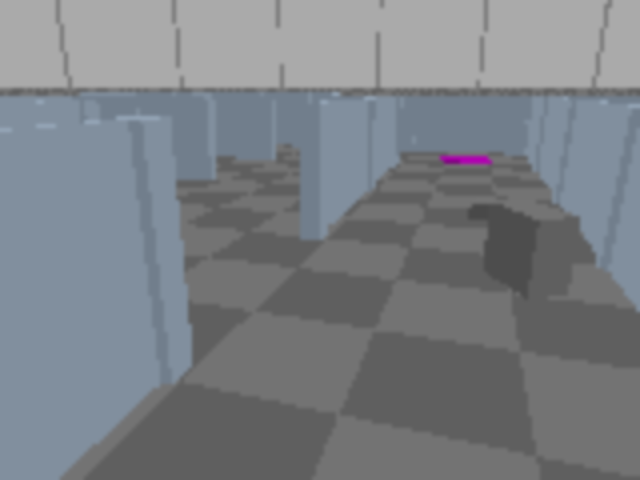goal_zone: (439, 155, 490, 164)
